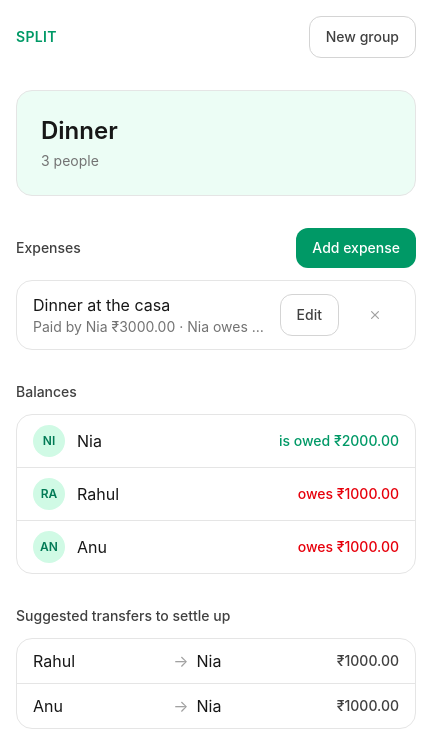
Test case: GroupScreen new group flow › cancel leaves the current group and expenses untouched
The width and height of the screenshot is (433, 744).
Click the button "New group". click: x=362, y=37
box: [309,16,416,58]
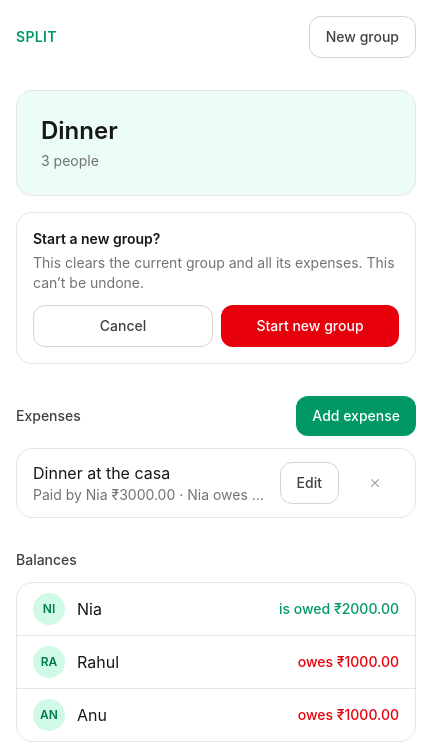
Check: the text "Dinner at the casa" is shown, box [33,461,170,485]
Check: the text "Start a new group?" is shown, box [33,230,160,247]
Click the button "Cancel". click: x=123, y=326
box: [33,305,213,347]
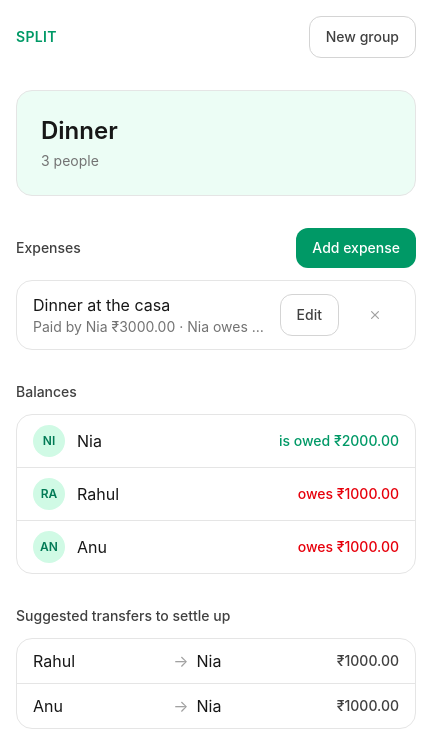
Check: the text "Dinner at the casa" is shown, box [33,293,170,317]
Check: the text "Start a new group?" is gone
